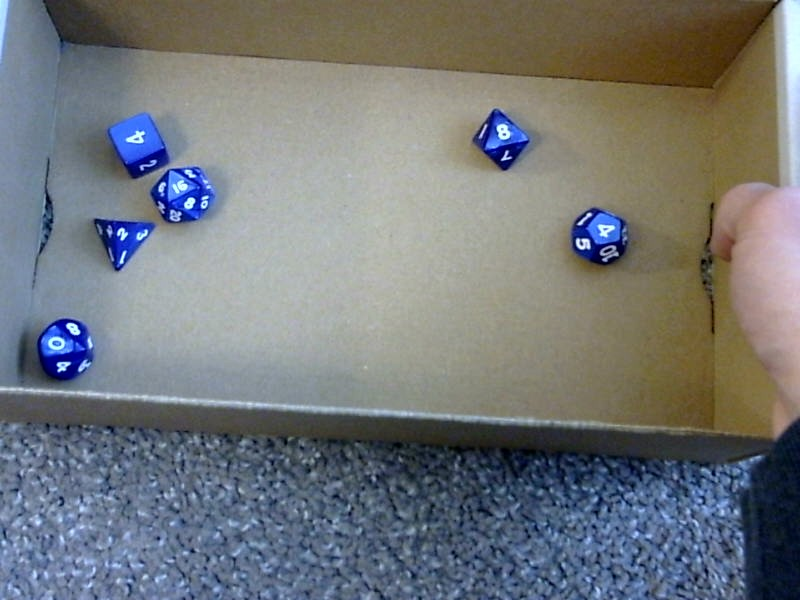d10 10: (32, 313, 103, 383)
d12 4: (567, 201, 633, 268)
d20 16: (148, 160, 223, 226)
d4 2: (90, 218, 157, 271)
d6 4: (103, 107, 169, 182)
d8 8: (465, 109, 532, 173)
